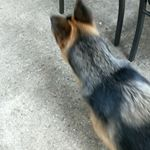puppy: (45, 1, 148, 150)
